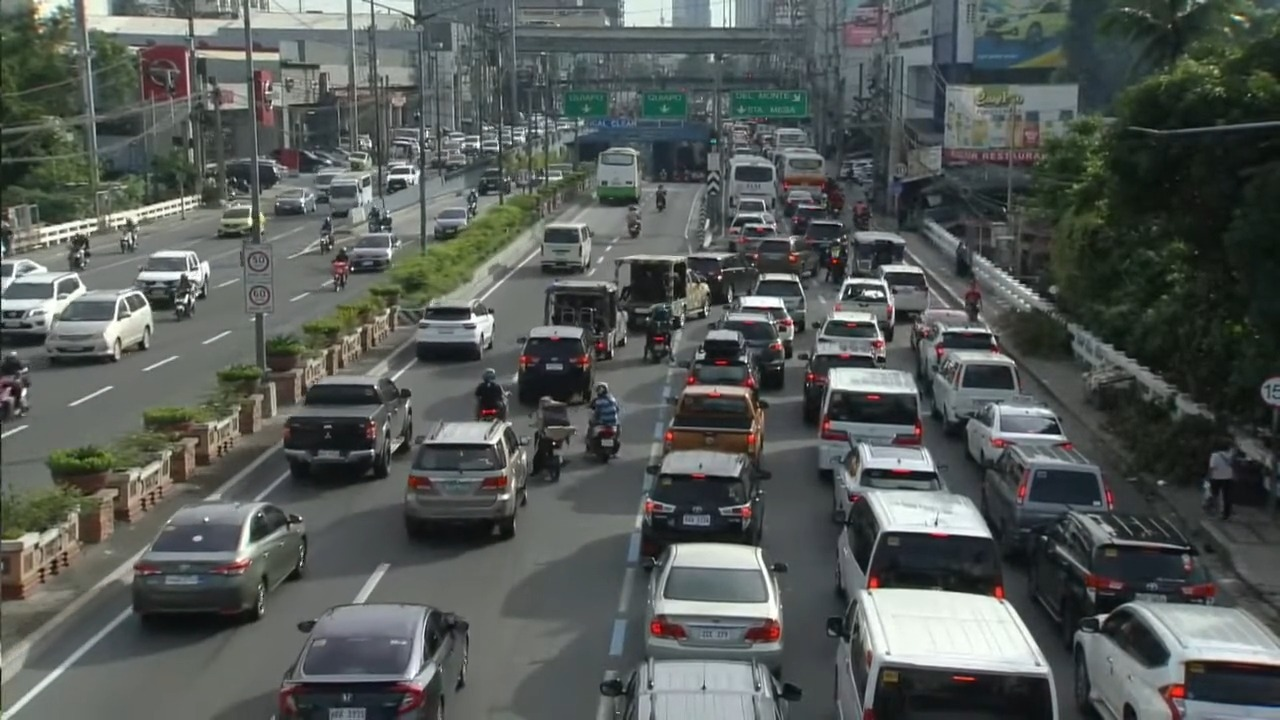bus: (726, 155, 777, 210), (596, 147, 641, 203), (776, 150, 826, 196), (328, 172, 373, 216), (774, 128, 809, 150)
car: (1027, 511, 1216, 646), (1072, 602, 1279, 719), (275, 602, 469, 719), (131, 500, 307, 620), (642, 542, 787, 675), (403, 420, 530, 539), (980, 445, 1113, 555), (640, 451, 770, 556), (601, 660, 800, 719), (833, 443, 947, 522), (45, 288, 153, 363), (931, 350, 1021, 436), (966, 395, 1068, 466), (798, 342, 884, 423), (916, 315, 997, 391), (517, 326, 593, 404), (0, 272, 85, 338), (716, 311, 784, 388), (415, 299, 495, 360), (726, 295, 794, 358), (833, 277, 895, 342), (982, 0, 1067, 46), (813, 311, 886, 364), (687, 251, 757, 302), (751, 273, 806, 333), (682, 348, 759, 390), (876, 263, 929, 319), (749, 238, 817, 275), (910, 308, 968, 351), (348, 232, 400, 271), (225, 158, 286, 189), (0, 258, 47, 290), (734, 223, 779, 254), (433, 206, 469, 239), (216, 205, 252, 237), (273, 188, 315, 215), (790, 203, 825, 235), (803, 219, 846, 245), (728, 212, 776, 235), (385, 163, 419, 192), (783, 189, 815, 218), (476, 169, 511, 195), (735, 196, 767, 212), (347, 152, 372, 170), (444, 151, 467, 168), (480, 139, 499, 155)
motorcycle: (536, 426, 575, 481), (0, 367, 29, 420), (586, 424, 619, 462), (476, 391, 508, 420), (0, 382, 23, 422), (647, 332, 671, 363), (172, 291, 194, 320), (331, 261, 348, 291), (368, 213, 393, 233), (67, 248, 86, 271), (120, 230, 136, 252), (964, 300, 980, 322), (854, 212, 870, 230), (319, 234, 333, 254), (655, 193, 667, 212), (628, 221, 640, 238), (467, 200, 477, 218)
truck: (282, 375, 412, 479), (663, 385, 768, 467), (615, 254, 710, 329), (134, 250, 210, 305)
